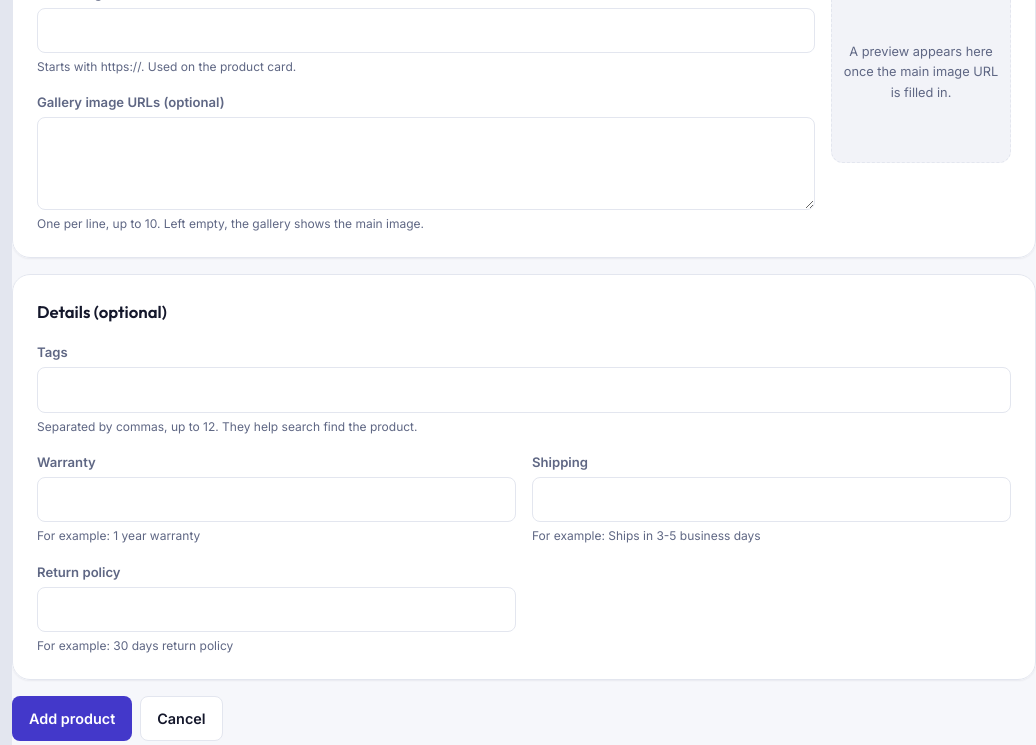
Test: ProductForm › clears a field message as soon as the field is corrected
(page scrolled)
Step 1. Click the button "Add product" → [72, 719], box [12, 696, 132, 741]
(page scrolled)
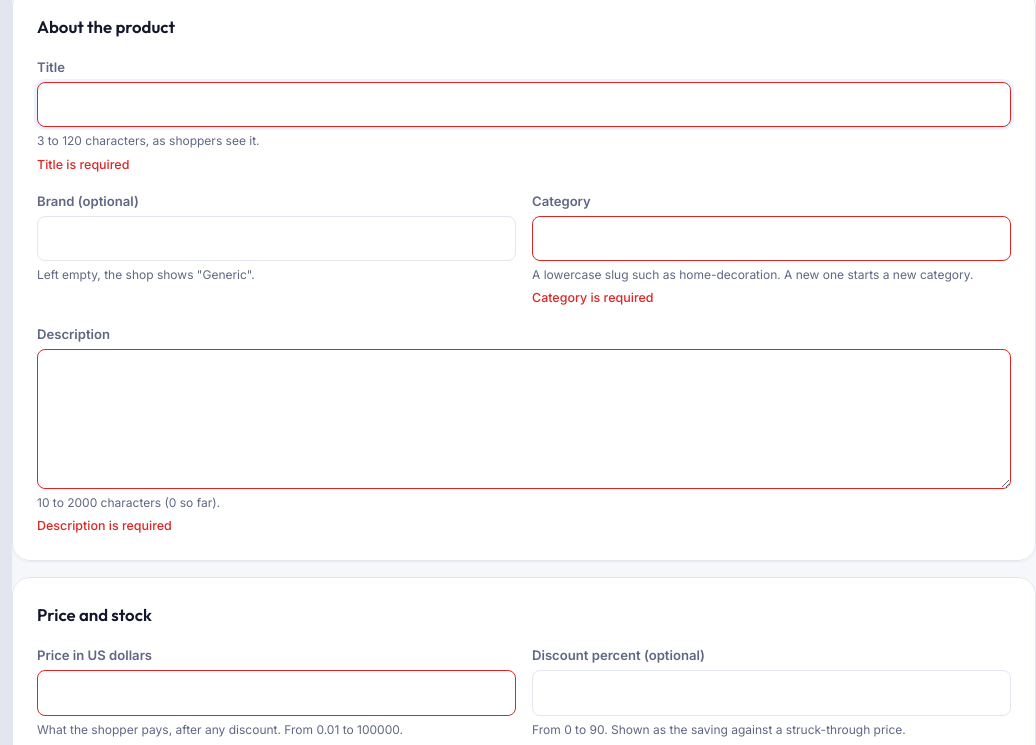
Expected: the text "Title is required" is shown, [37, 157, 129, 172]
Step 2. Type "Teapot" into the field labelled "Title" → [524, 105], box [37, 82, 1011, 127]
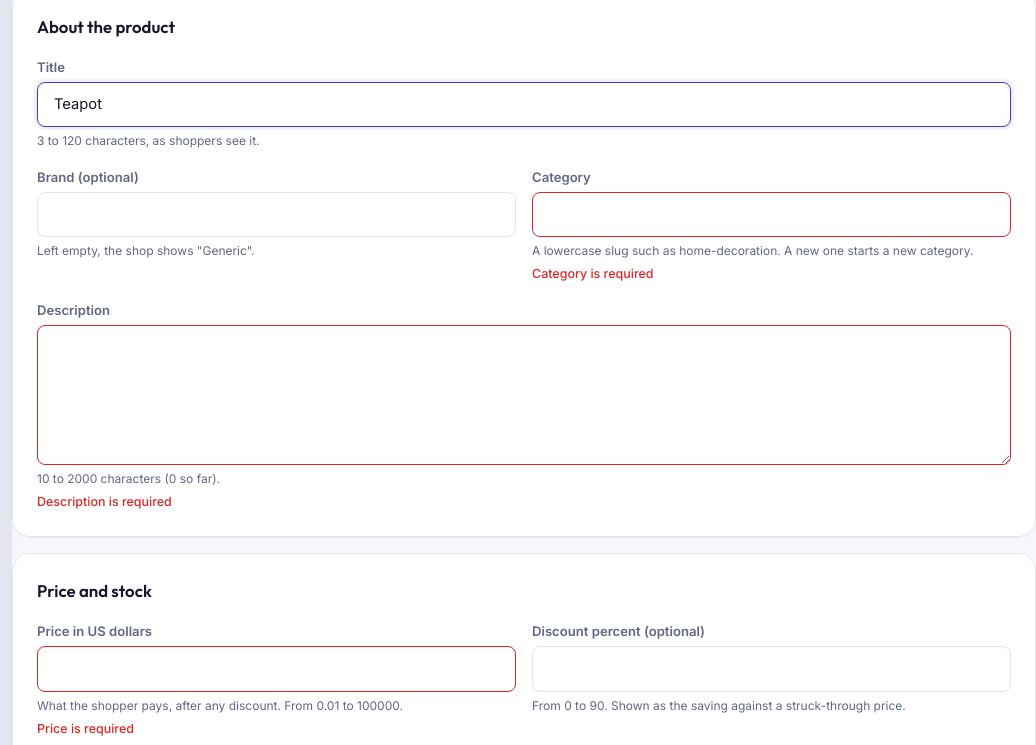
Expected: the text "Title is required" is gone
